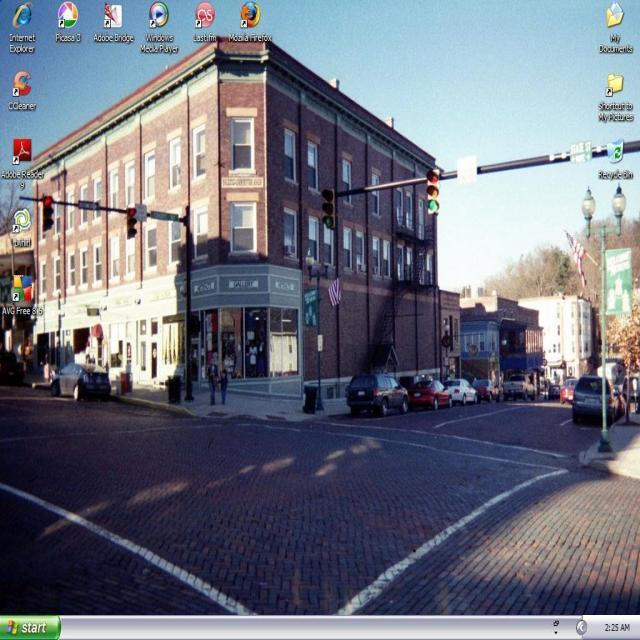traffic light: (425, 168, 441, 214), (321, 188, 336, 230), (43, 195, 54, 232), (127, 207, 138, 239)
